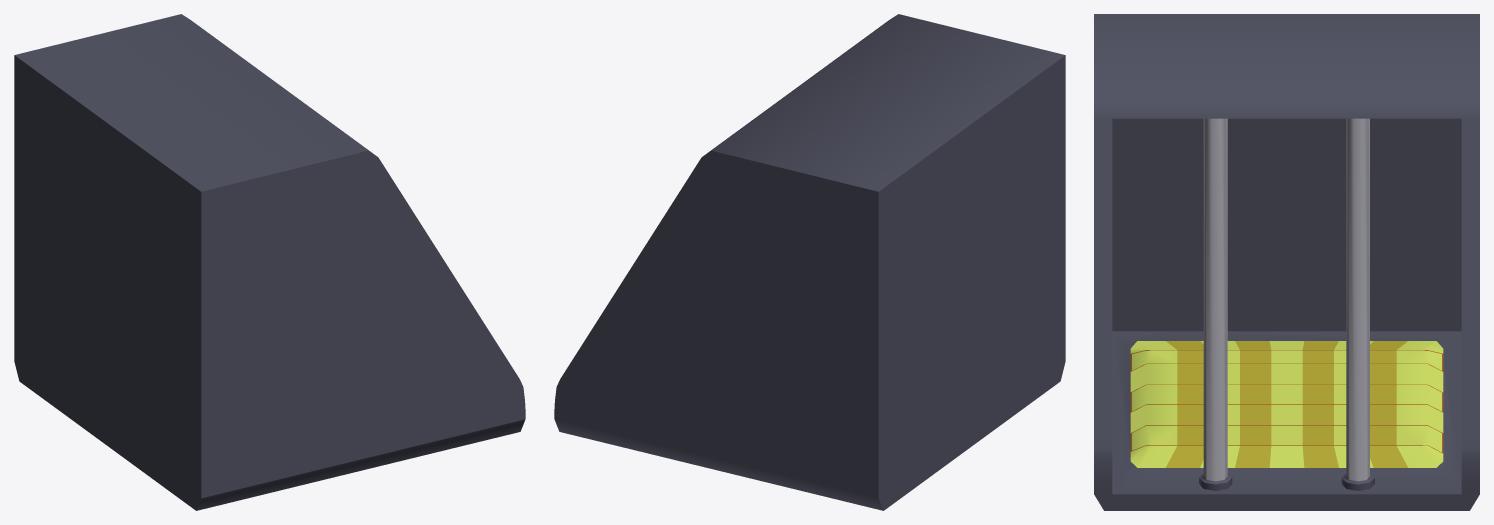
File: Fake_Cage.fbx
3 renders of one model, left to right at view 1: azimuth 30°, elevation 25°; view 2: azimuth 150°, elevation 25°; view 3: azimuth 270°, elevation 25°, orthographic. The views are drawn at different scales.
Visible parts, largest first — view 1: Cylinder; view 2: Cylinder; view 3: Cylinder.
Boxes of the visible parts, x1,y1,x2,y2 form: Cylinder: (14,14,525,510); Cylinder: (554,14,1065,510); Cylinder: (1094,14,1479,510).
Size of the model in its own units: 100 by 95.44 by 100.
